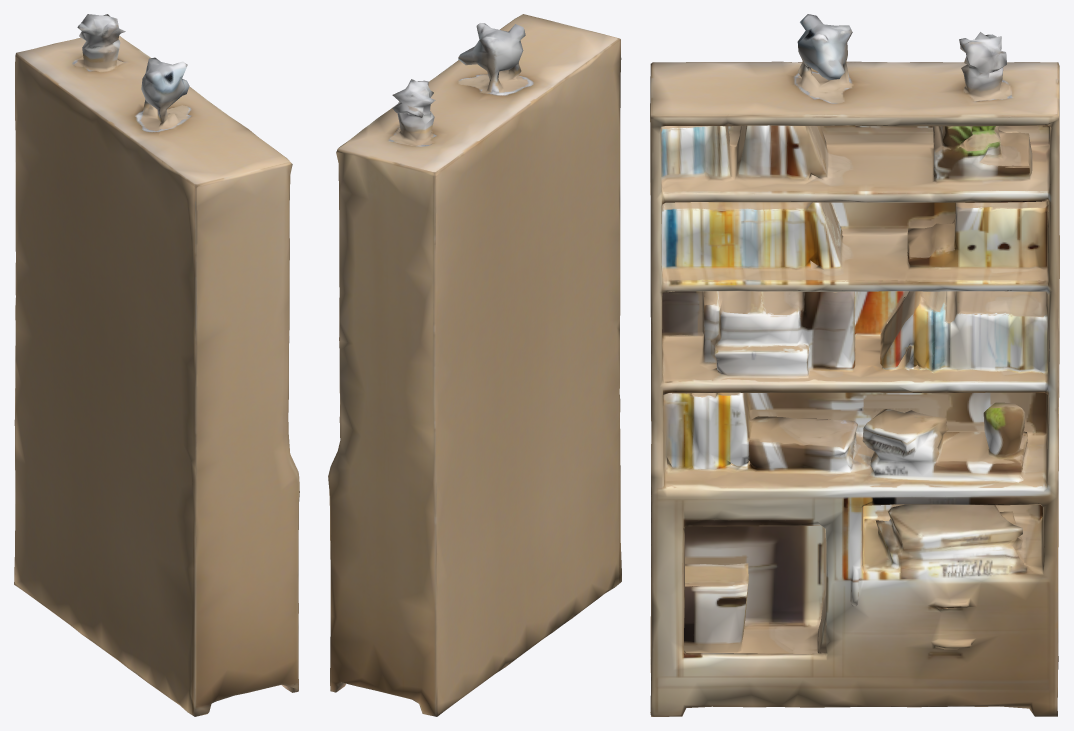
File: Bookshelf_Elegance_1017133127_texture.fbx
The picture shows the model from 3 angles, left to right: view 1: azimuth 30°, elevation 25°; view 2: azimuth 150°, elevation 25°; view 3: azimuth 270°, elevation 25°; orthographic projection. The views are drawn at different scales.
Visible parts, largest first — view 1: Mesh1.0; view 2: Mesh1.0; view 3: Mesh1.0.
Boxes of the visible parts, x1=… form: Mesh1.0: x1=14, y1=14, x2=299, y2=716; Mesh1.0: x1=328, y1=14, x2=621, y2=716; Mesh1.0: x1=650, y1=14, x2=1059, y2=716.
Bounding box in the file's own units: 39.94 × 200 × 112.
1 material, 1 textured.
